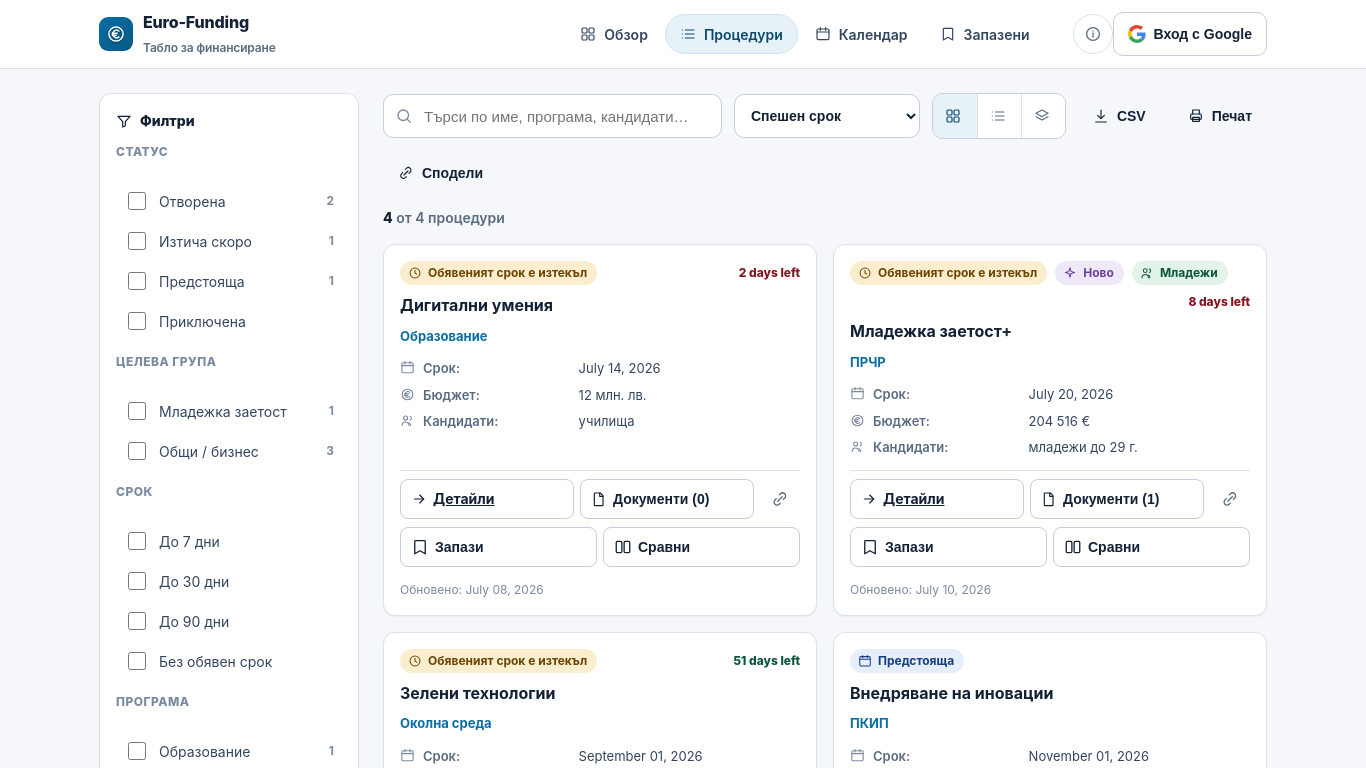
Test case: Детайли drawer — lazy документи и клавиатура › отваря се, зарежда документи и се затваря с Escape
Click the link "Детайли" below "младежи до 29 г." at (937, 499), box [850, 479, 1024, 519]
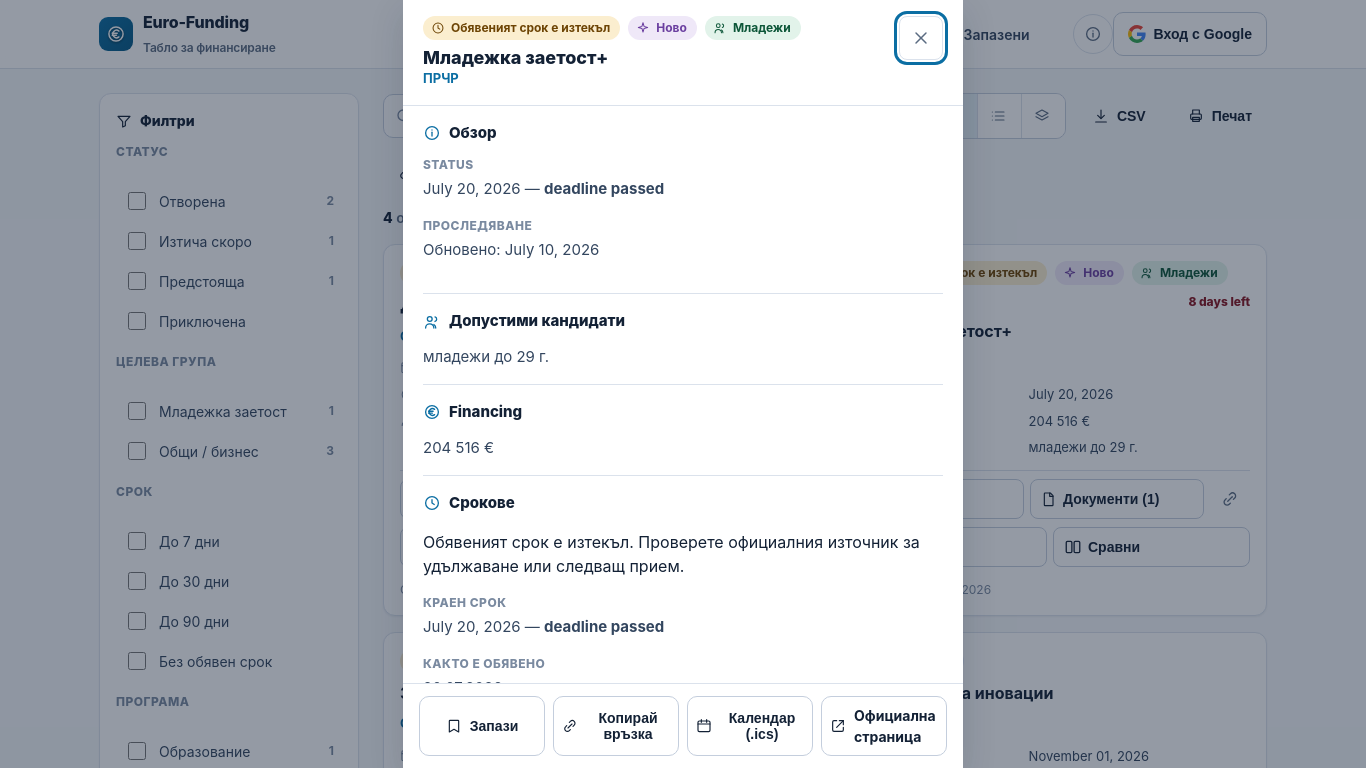
Result: the dialog is shown
# Escape затваря
Press Escape in the dialog, box [403, 0, 963, 767]
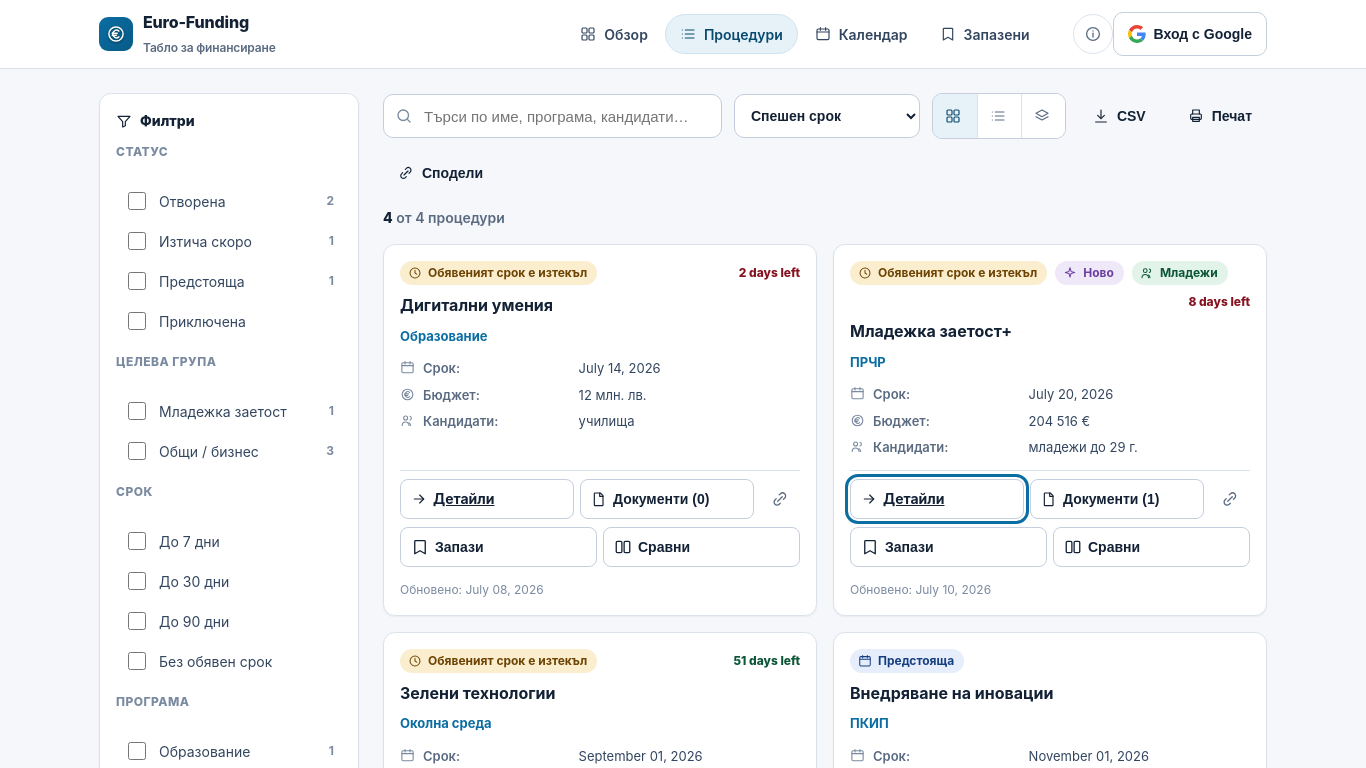
Result: the dialog is gone
